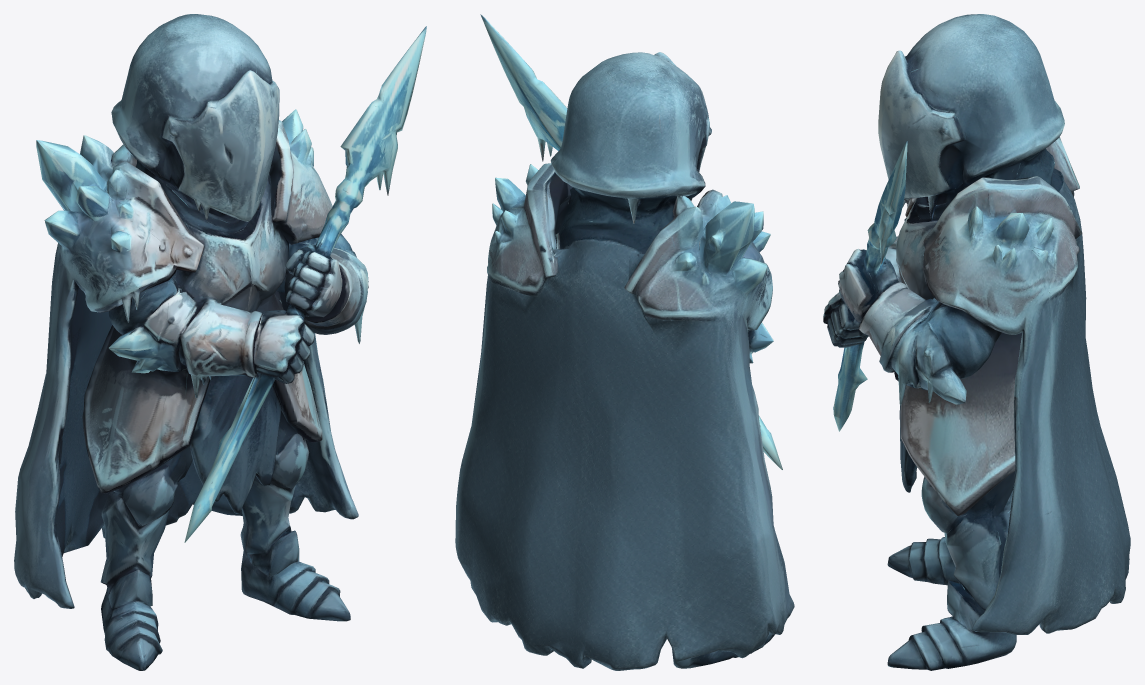
The model's file is sentinella_del_passo.glb.
The picture shows the model from 3 angles, left to right: view 1: azimuth 30°, elevation 25°; view 2: azimuth 150°, elevation 25°; view 3: azimuth 270°, elevation 25°; orthographic projection. The views are drawn at different scales.
Visible parts, largest first — view 1: mesh_node; view 2: mesh_node; view 3: mesh_node.
Part boxes in pixels (x1,y1,x2,y2): mesh_node: [14, 14, 426, 670]; mesh_node: [455, 14, 794, 670]; mesh_node: [823, 14, 1130, 670].
Size of the model in its own units: 1.21 by 1.9 by 0.8973.
1 material, 1 textured.
